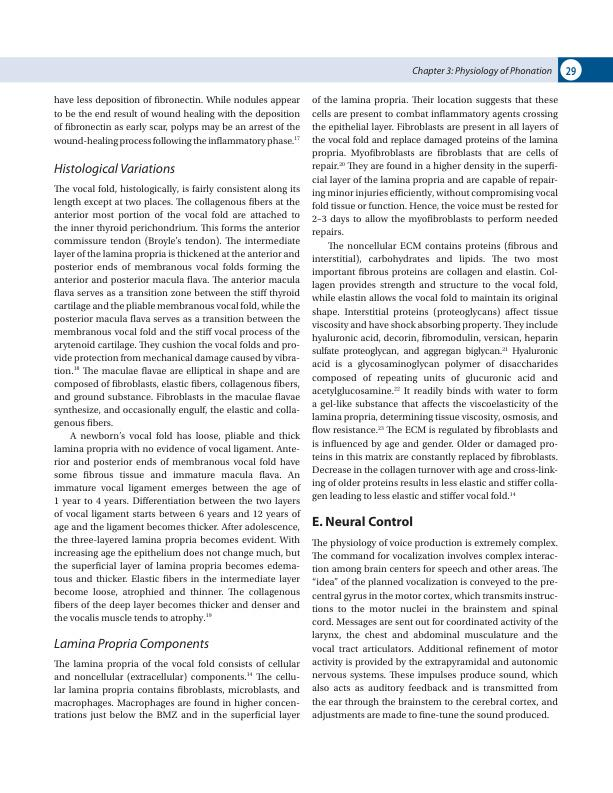header: (411, 65, 554, 78)
section-heading: (310, 514, 416, 529)
sub-section-heading: (52, 636, 211, 652), (53, 161, 177, 177)
text: (53, 184, 303, 626), (310, 94, 558, 503), (311, 537, 559, 722), (53, 659, 302, 722), (52, 94, 302, 148)
